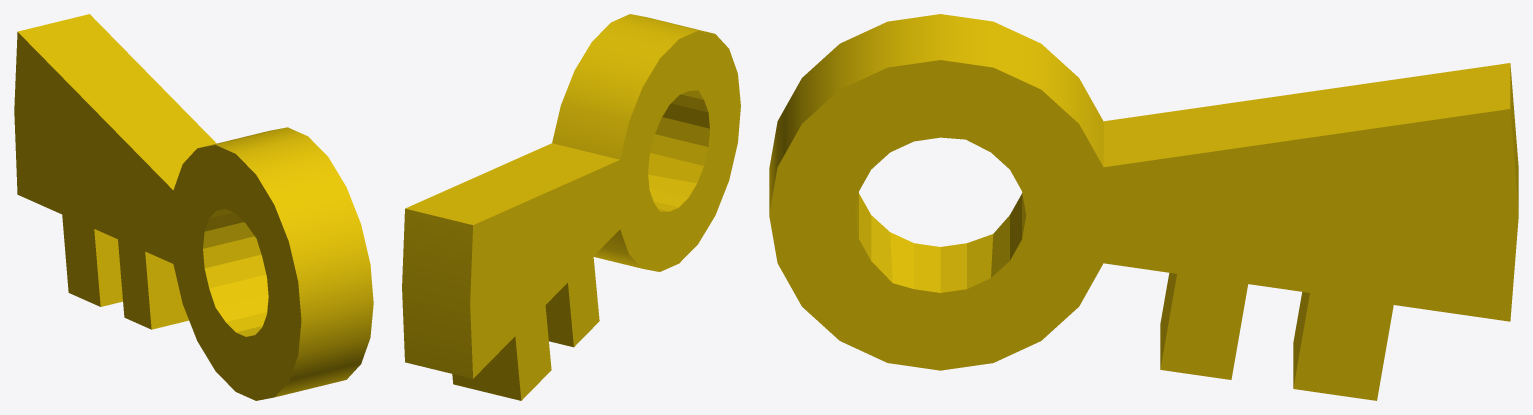
Rendered from keyy.fbx.
The picture shows the model from 3 angles, left to right: view 1: azimuth 30°, elevation 25°; view 2: azimuth 150°, elevation 25°; view 3: azimuth 270°, elevation 25°; orthographic projection. The views are drawn at different scales.
Parts seen in each view (by area): view 1: keyy; view 2: keyy; view 3: keyy.
Boxes of the visible parts, x1,y1,x2,y2 form: keyy: [14, 14, 373, 400]; keyy: [402, 14, 740, 400]; keyy: [769, 14, 1518, 400].
Size of the model in its own units: 0.05 by 0.1729 by 0.3444.
